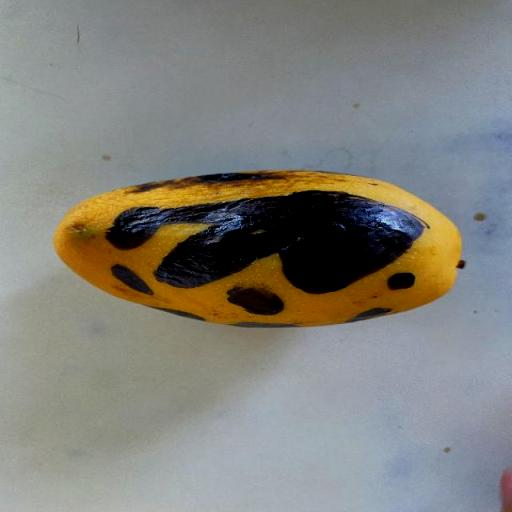mango-overripe: (23, 156, 487, 340)
